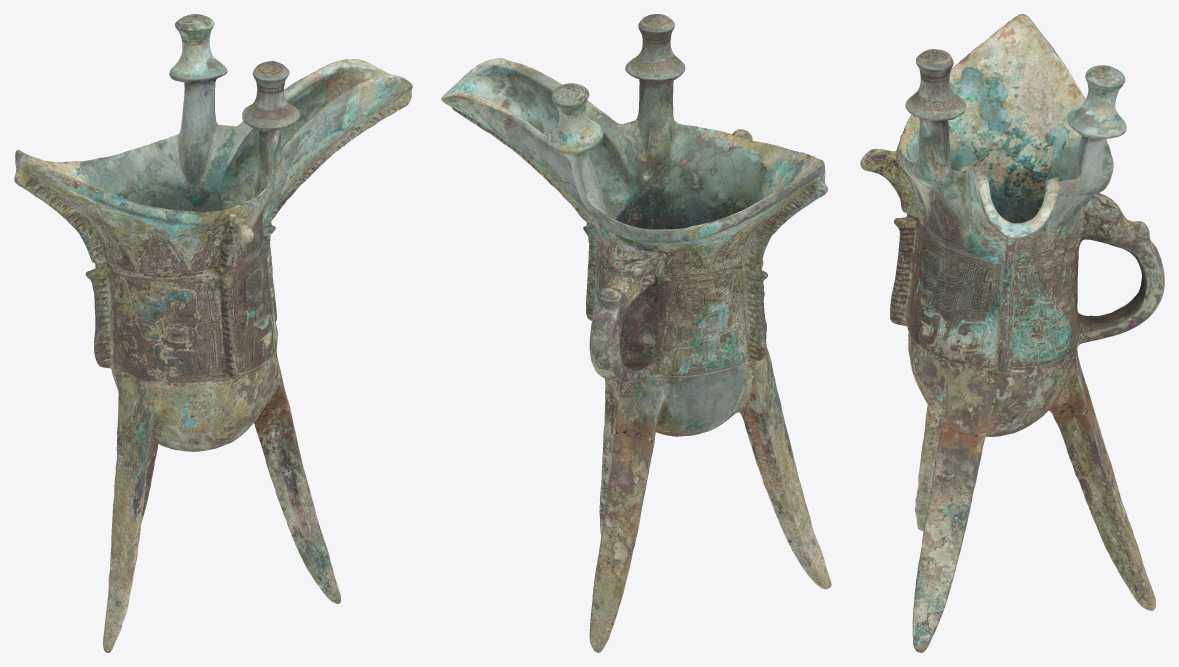
The model's file is jue.glb.
3 views of the same model, side by side, from view 1: azimuth 30°, elevation 25°; view 2: azimuth 150°, elevation 25°; view 3: azimuth 270°, elevation 25° (orthographic). The views are drawn at different scales.
Parts seen in each view (by area): view 1: Object_2; view 2: Object_2; view 3: Object_2.
Part boxes in pixels (box(x1,y1,x2,y2)): Object_2: box(14, 14, 412, 652); Object_2: box(441, 14, 831, 652); Object_2: box(860, 14, 1164, 652).
Bounding box in the file's own units: 11.01 × 15.03 × 7.13.
Materials: 1 (1 with a texture image).
